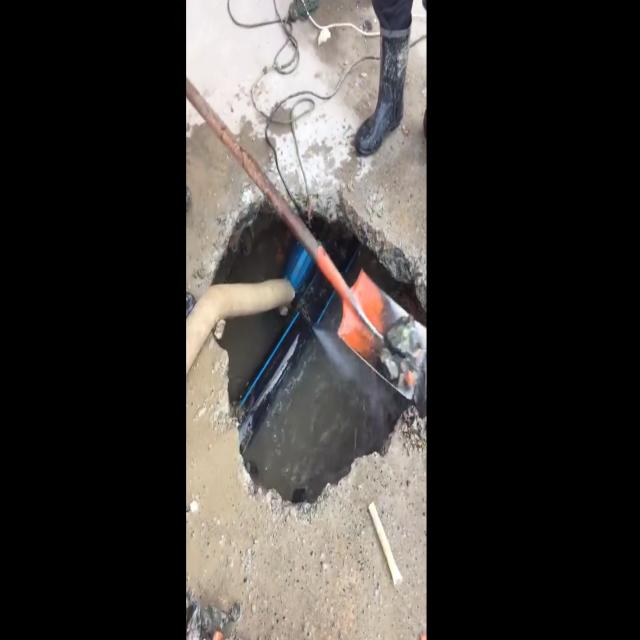leak: (314, 328, 382, 399)
